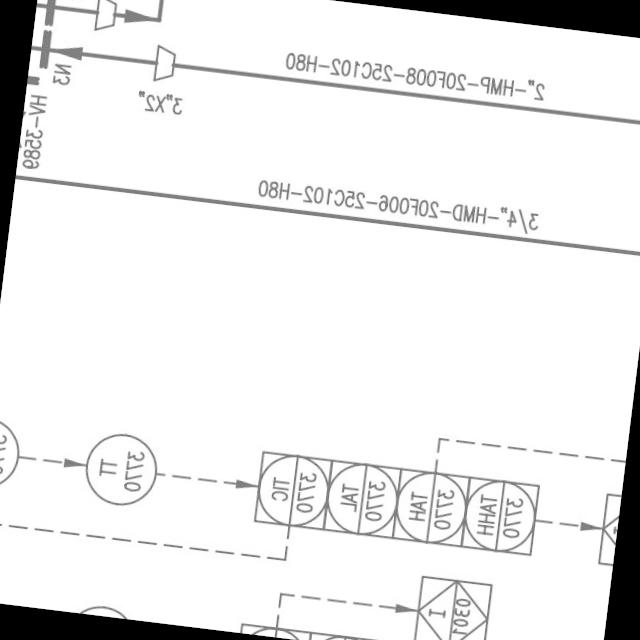SP: (147, 40, 180, 84), (88, 0, 122, 34)
